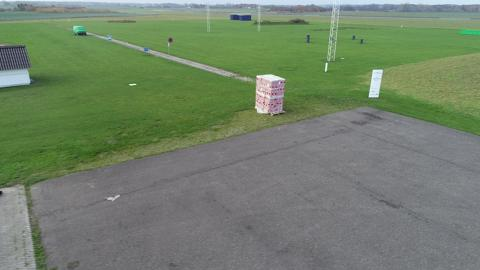RockwoolPallet: (255, 73, 287, 115)
